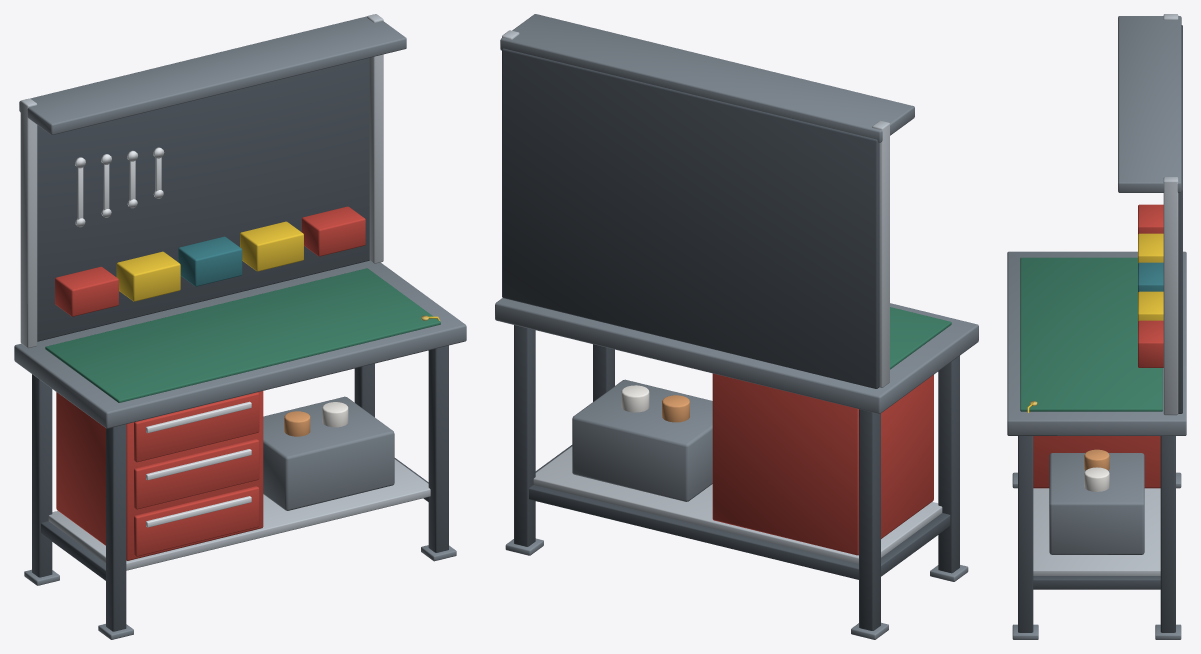
File: vcb-workbench.glb
3 views of the same model, side by side, from view 1: azimuth 30°, elevation 25°; view 2: azimuth 150°, elevation 25°; view 3: azimuth 270°, elevation 25° (orthographic). The views are drawn at different scales.
Parts seen in each view (by area): view 1: VcbWorkbenchAssembly; view 2: VcbWorkbenchAssembly; view 3: VcbWorkbenchAssembly.
Boxes of the visible parts, x1,y1,x2,y2 form: VcbWorkbenchAssembly: (14, 14, 466, 639); VcbWorkbenchAssembly: (495, 14, 978, 639); VcbWorkbenchAssembly: (1007, 14, 1186, 639).
Bounding box in the file's own units: 1.52 × 1.93 × 0.68.
